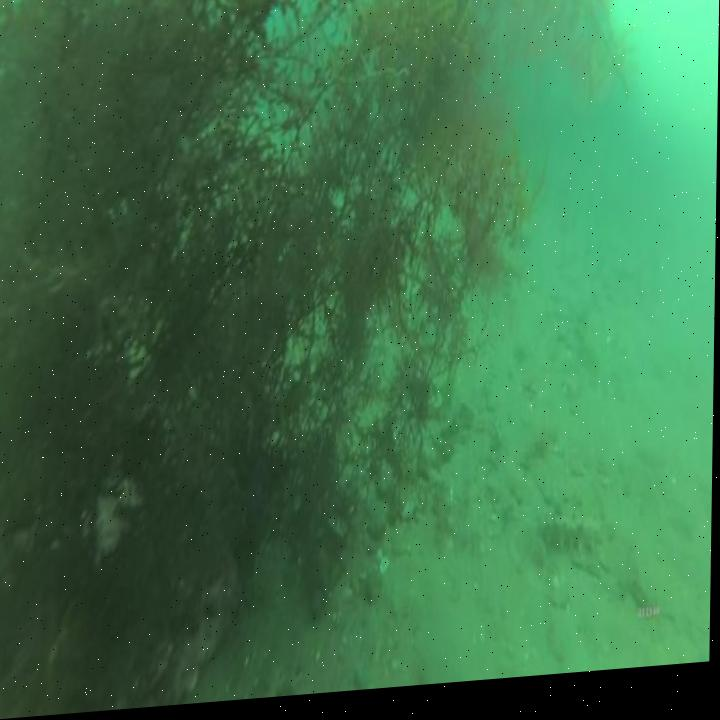holothurian: (542, 519, 607, 575)
